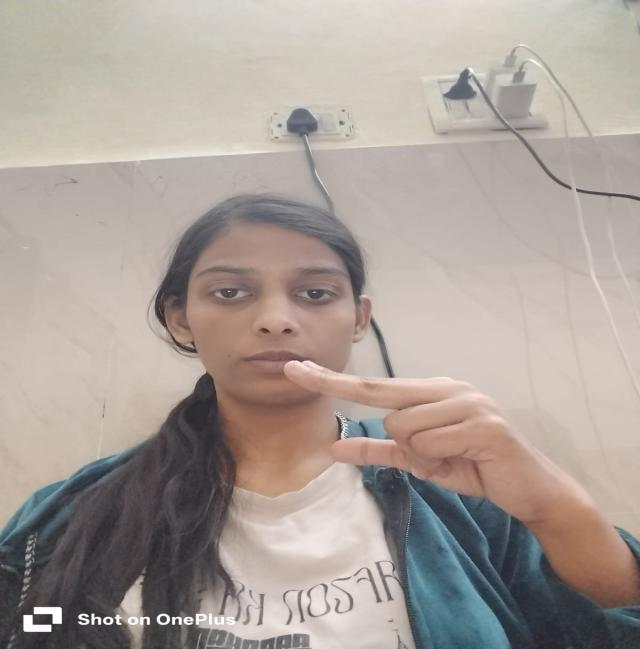No: (270, 348, 566, 542)
